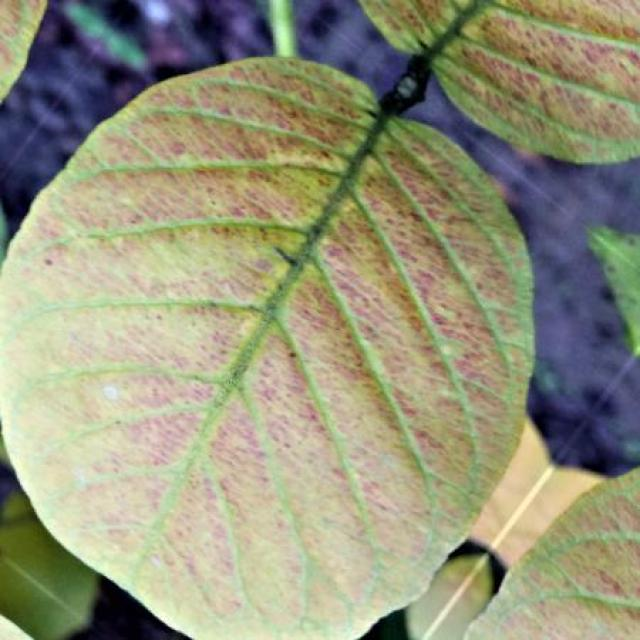Red Rust: (0, 0, 640, 640), (465, 469, 640, 640)
